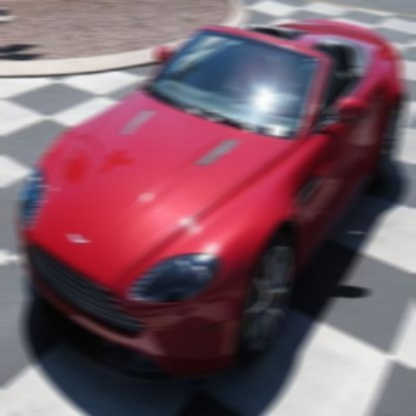Vehicle: (17, 18, 407, 375)
